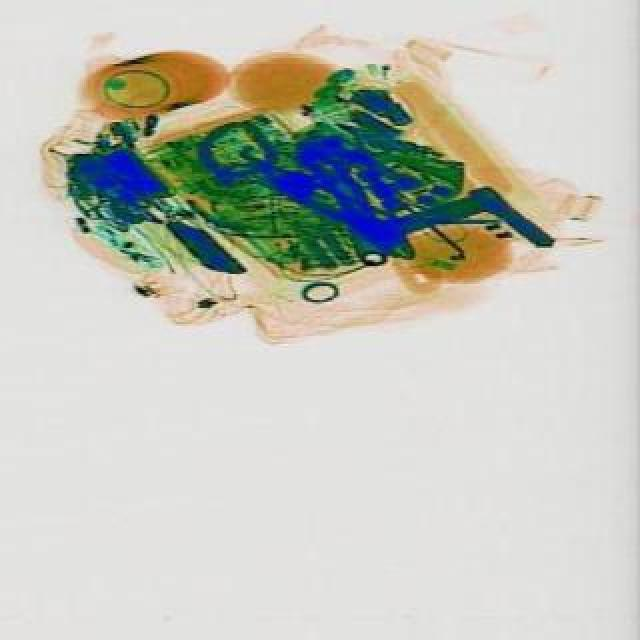scissors: (322, 136, 398, 274)
wrench: (274, 140, 440, 280)
